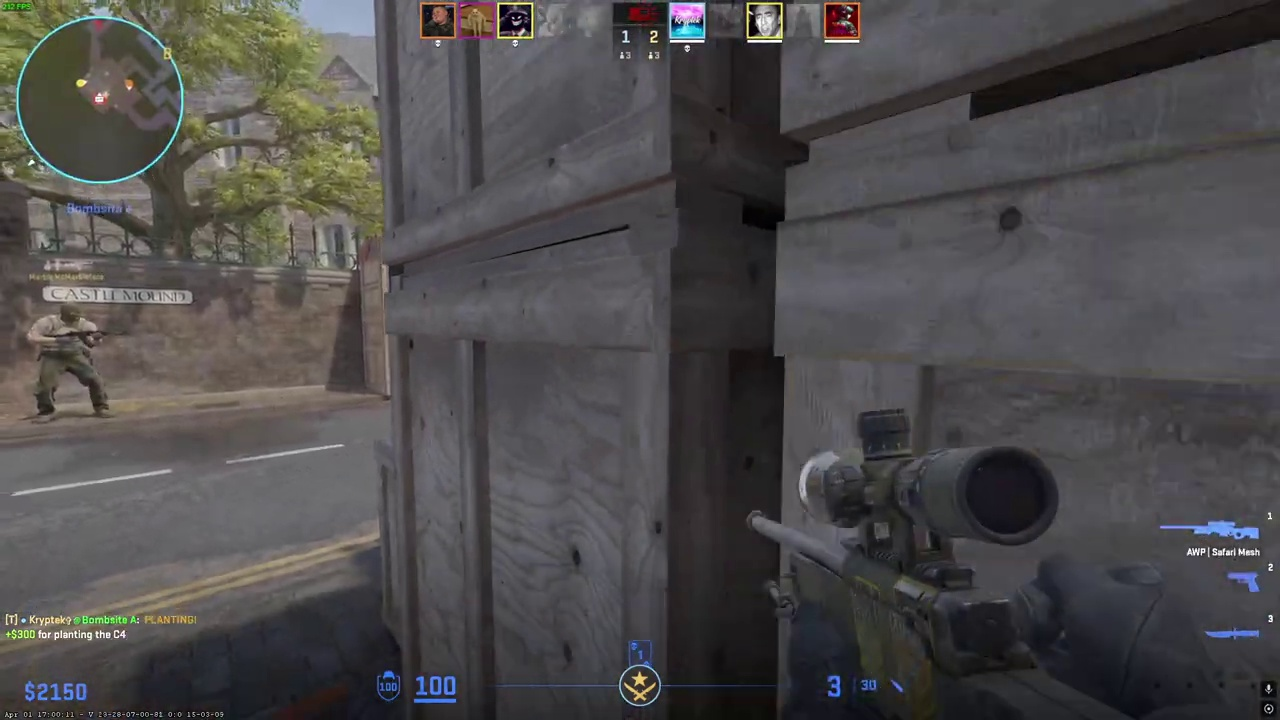Terrorist: (25, 303, 110, 420)
